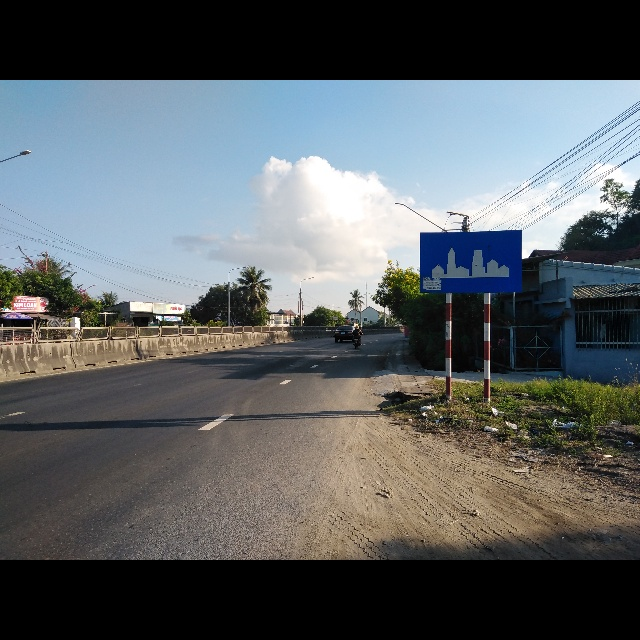Khu đông dân cư: (418, 232, 522, 295)
